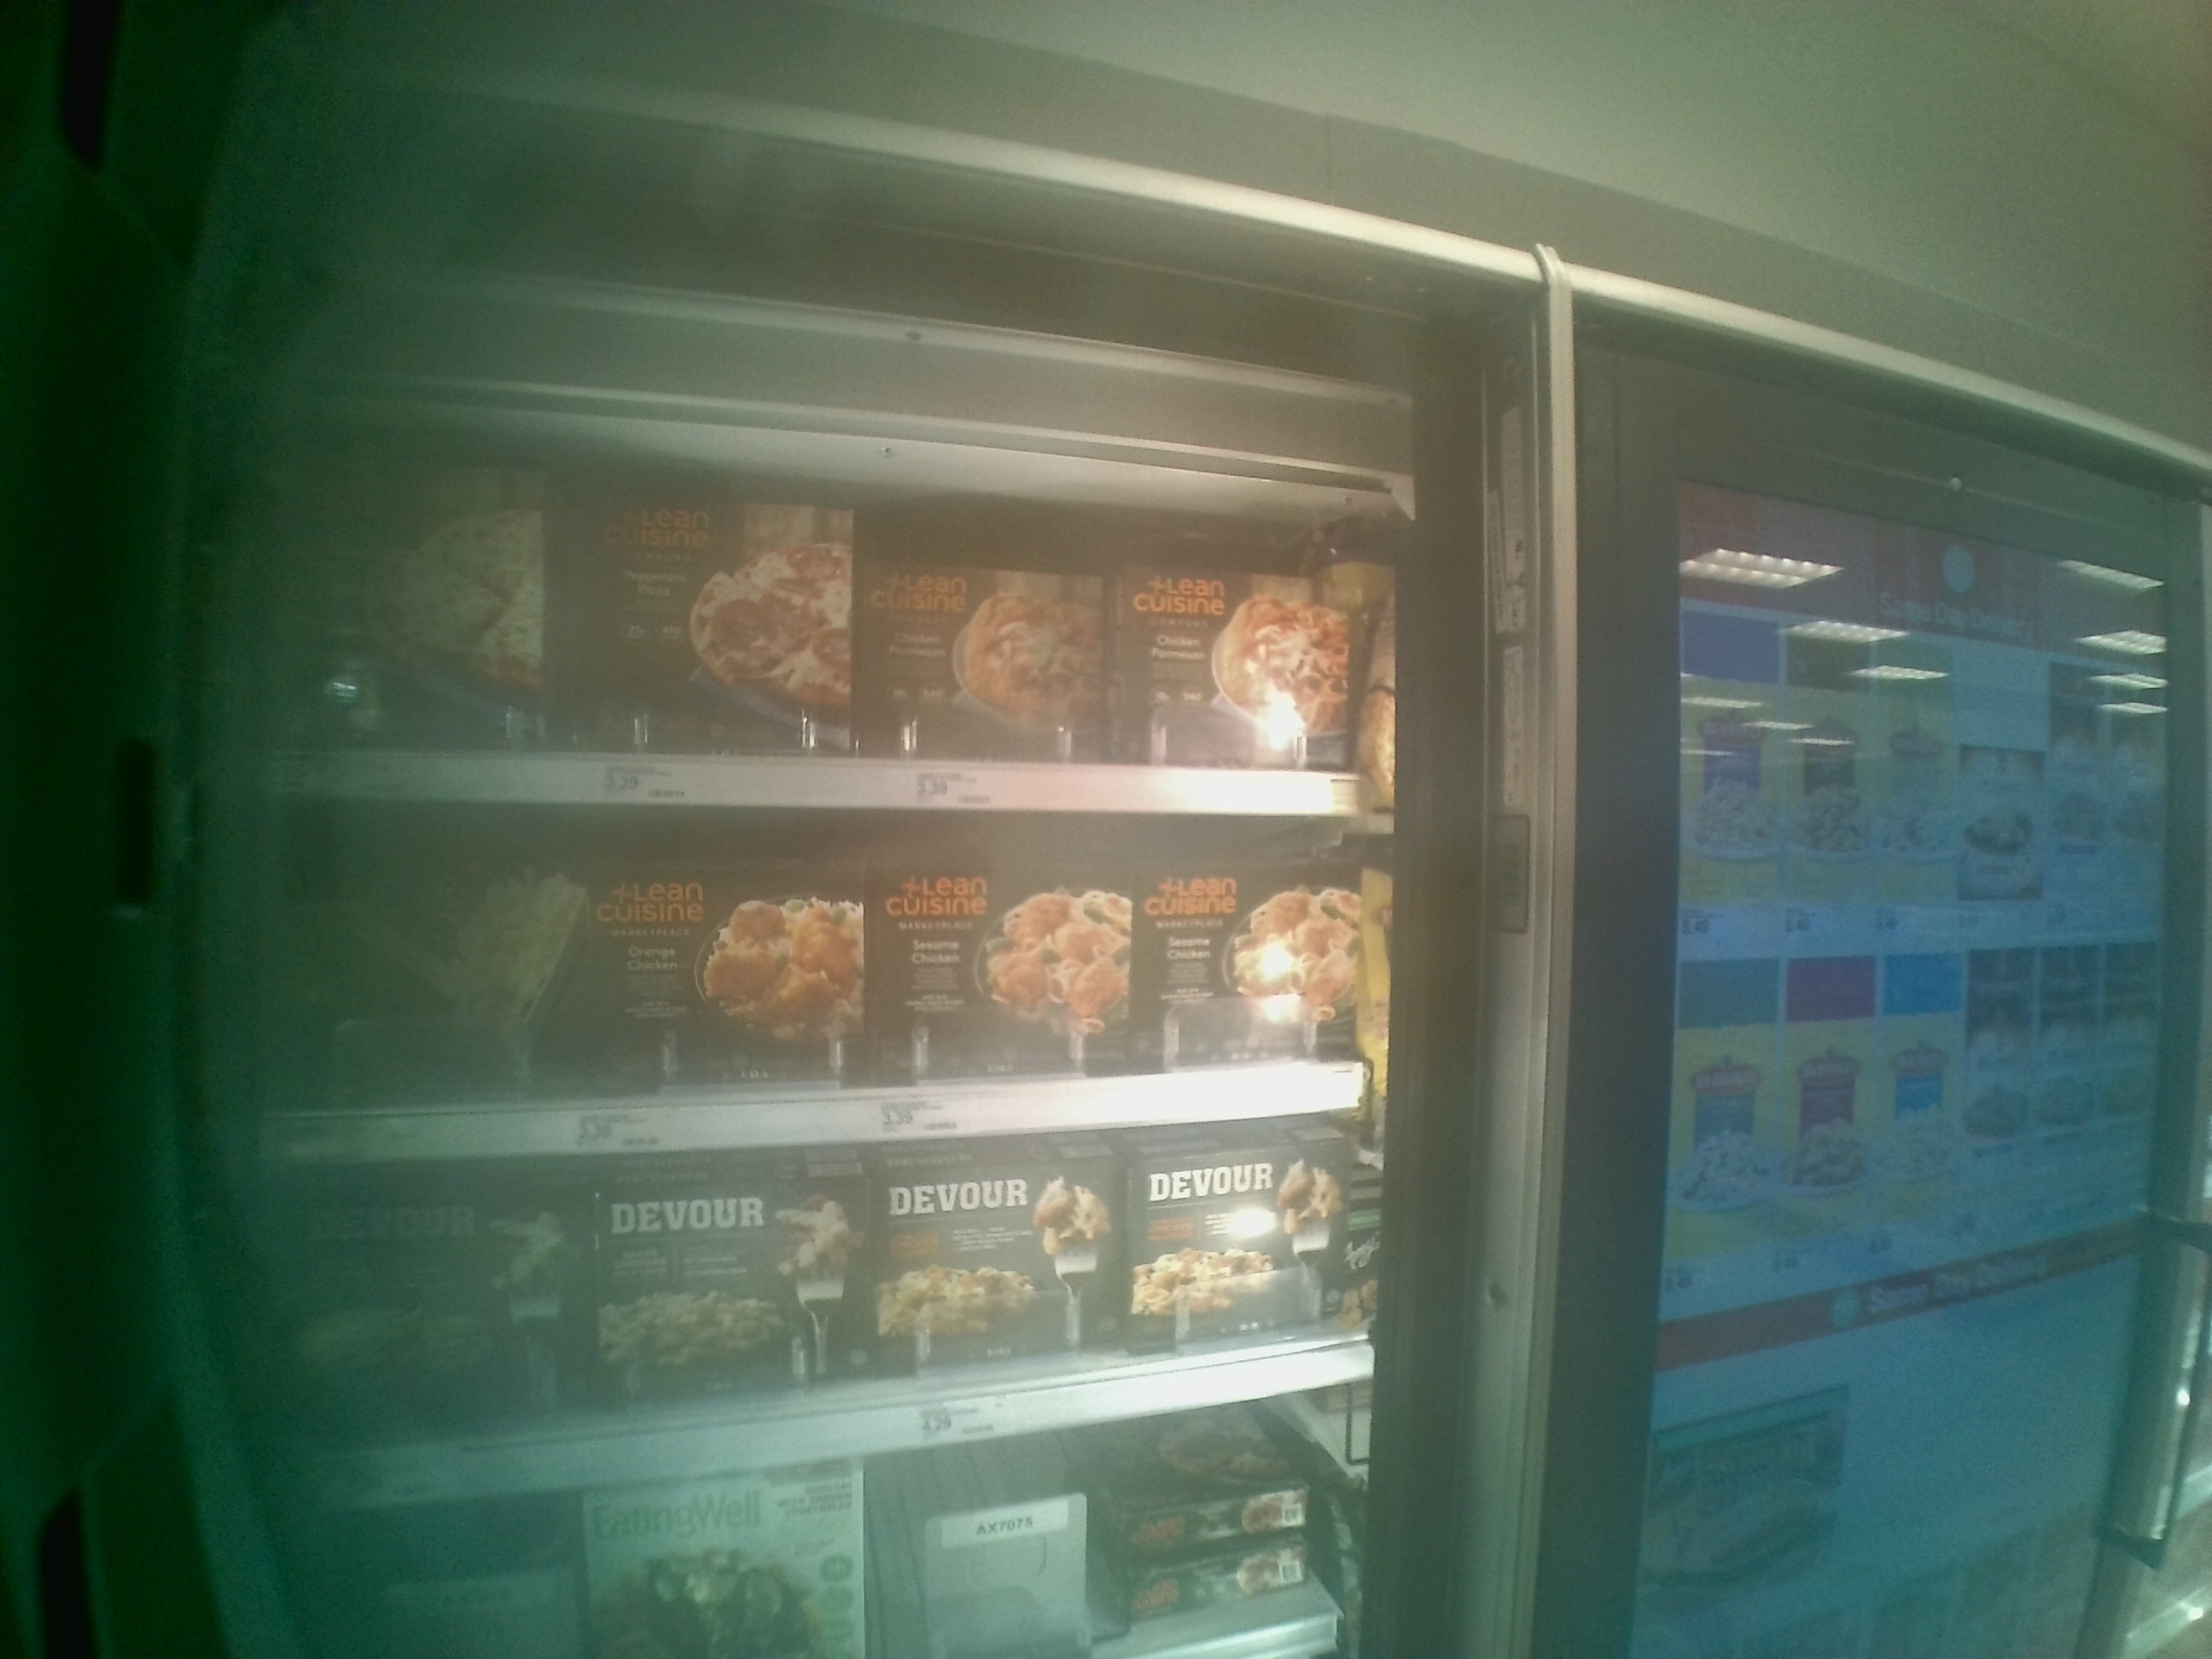shelf: (251, 380, 1372, 814), (251, 793, 1395, 1171)
